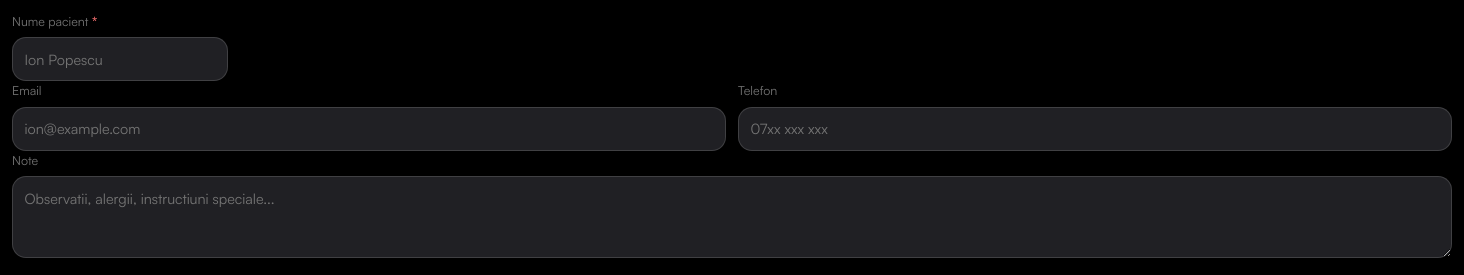
it: ClientSection › loads recent patients on focus with an empty query
Focus the dropdown labelled "Nume pacient *" at (120, 59), box [12,37,228,81]
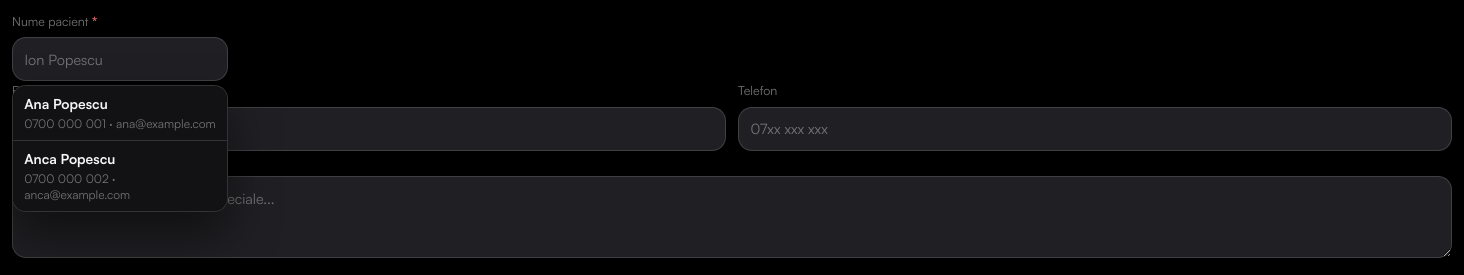
Now the list is shown, box [12,86,228,212]
Now the text "Ana Popescu" is shown, box [24,95,108,113]
